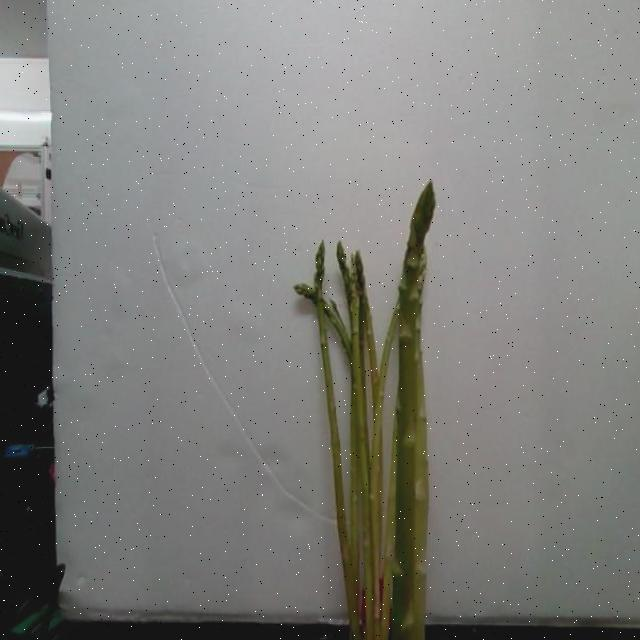aspargus: (391, 183, 437, 640)
